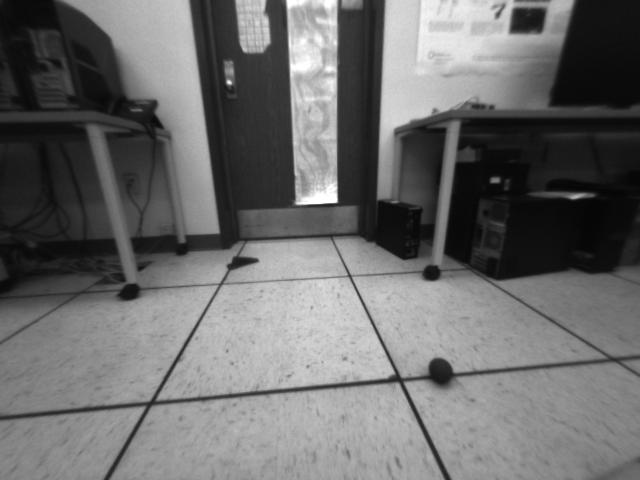dogtoy: (422, 352, 460, 391)
